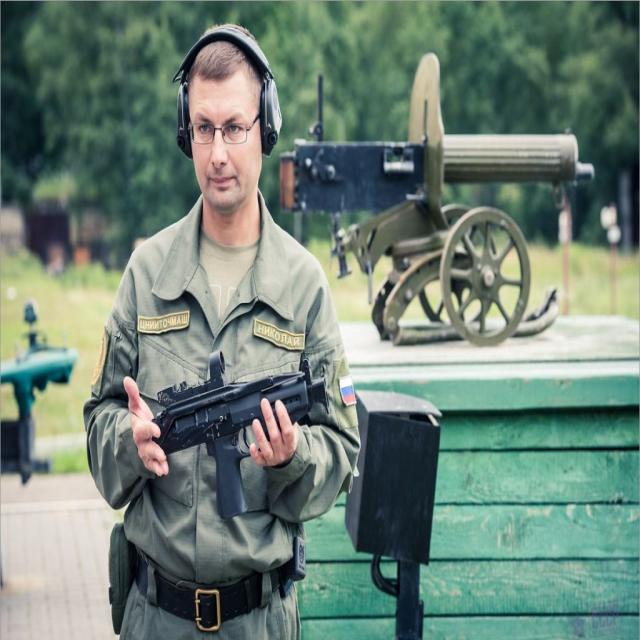firearm: (150, 349, 331, 521)
